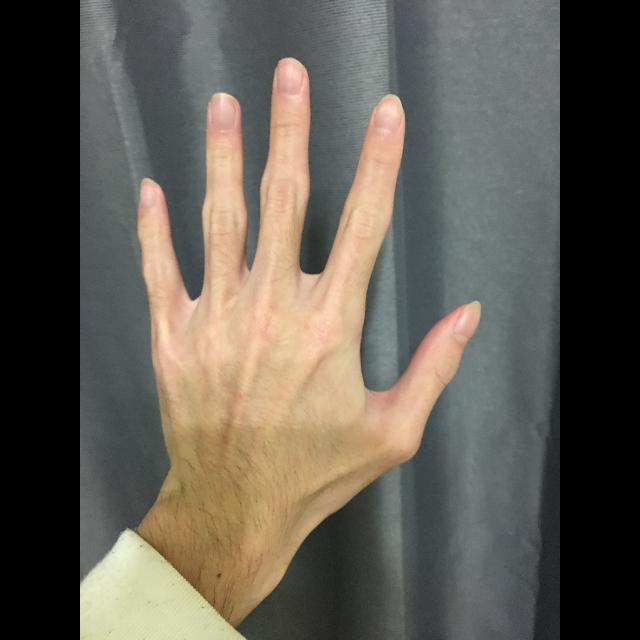bare_hand: (132, 53, 484, 492)
